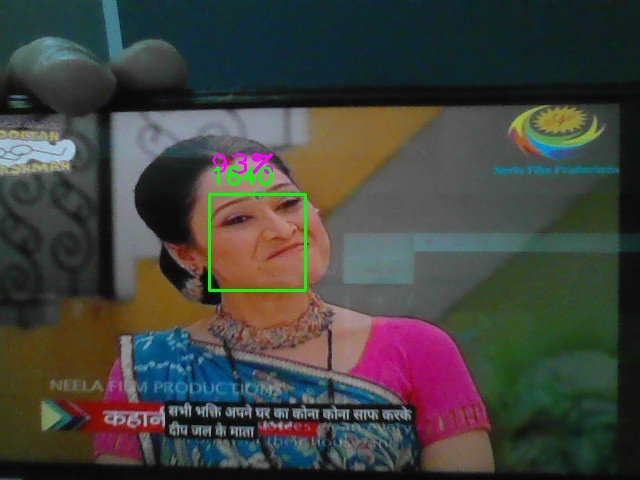fake: (209, 194, 306, 291)
